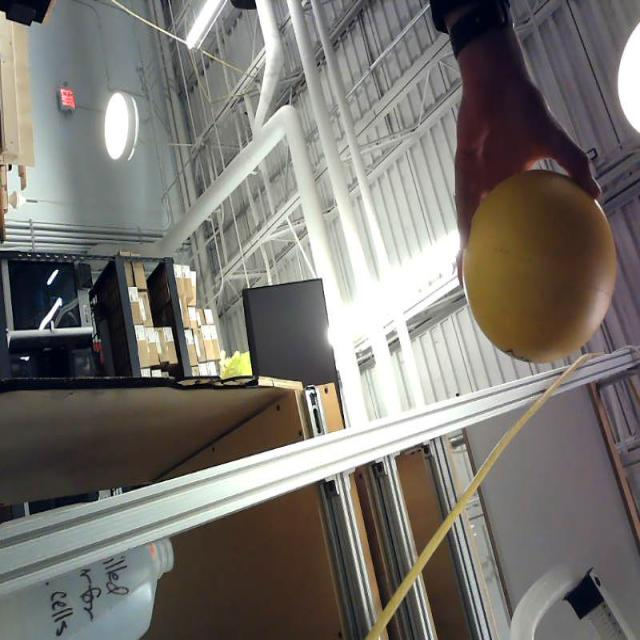Fuel: (462, 168, 617, 364)
